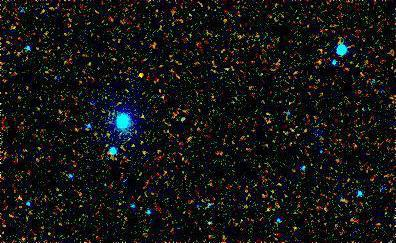star: (124, 58, 154, 88)
